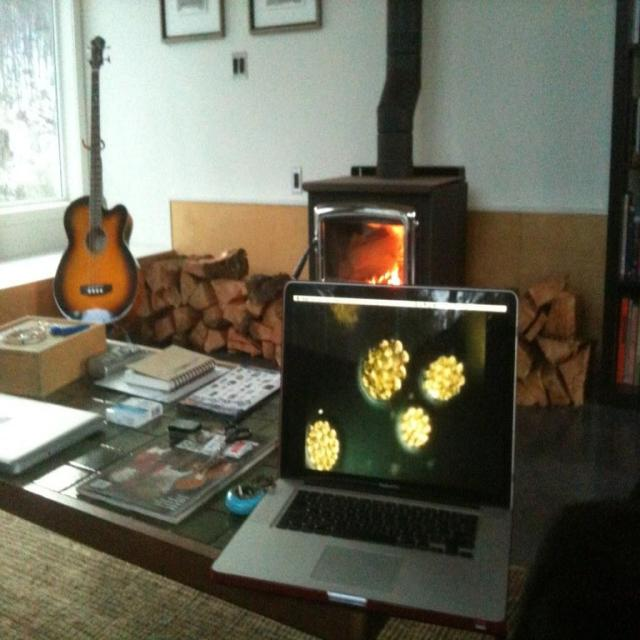Fire: (342, 222, 410, 292)
